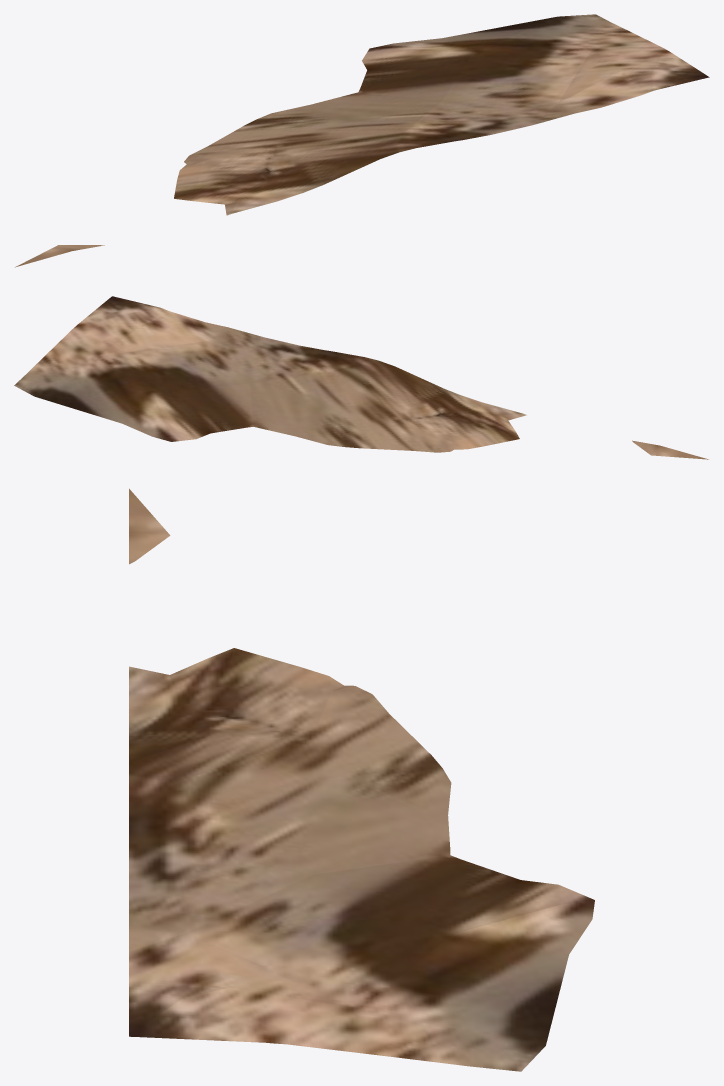
The picture shows the model from 3 angles, top to bottom: view 1: azimuth 30°, elevation 25°; view 2: azimuth 150°, elevation 25°; view 3: azimuth 270°, elevation 25°; orthographic projection. The views are drawn at different scales.
Bounding box in the file's own units: 2.27 × 0.0699 × 0.7665.
Materials: 1 (1 with a texture image).
